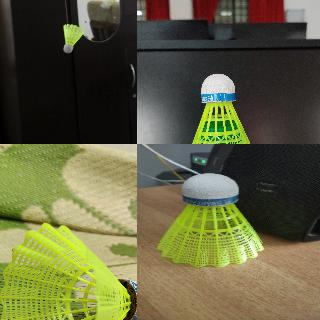shuttlecock: (0, 221, 136, 319), (156, 174, 262, 266), (182, 72, 263, 143), (62, 23, 84, 52)
